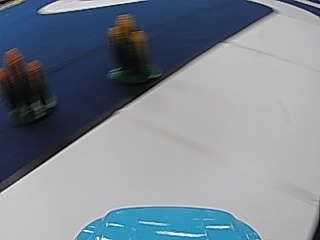corn: (3, 45, 53, 124), (106, 11, 155, 83)
